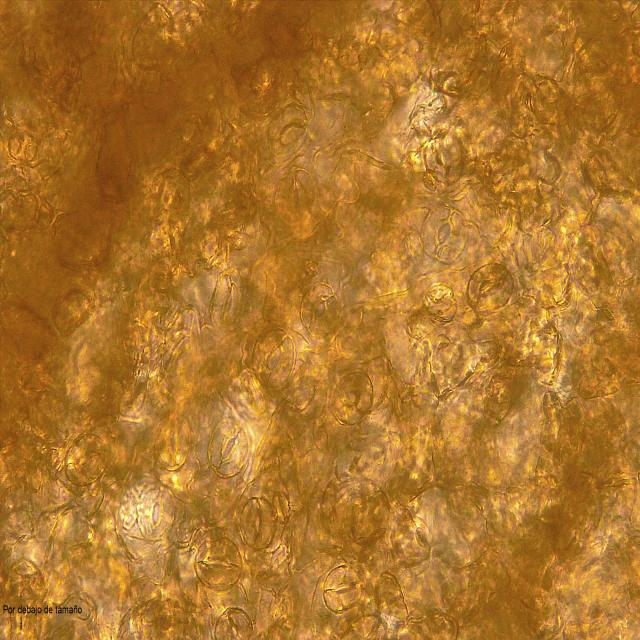Stomata: (418, 203, 469, 264), (250, 324, 297, 390), (193, 537, 243, 591), (207, 416, 249, 480), (330, 369, 374, 427), (63, 433, 109, 488), (299, 282, 342, 339), (468, 262, 514, 315), (136, 482, 177, 541), (275, 168, 317, 225), (266, 104, 308, 158), (238, 496, 279, 551), (323, 564, 366, 616), (154, 416, 190, 472), (423, 136, 462, 187), (214, 606, 255, 640)
